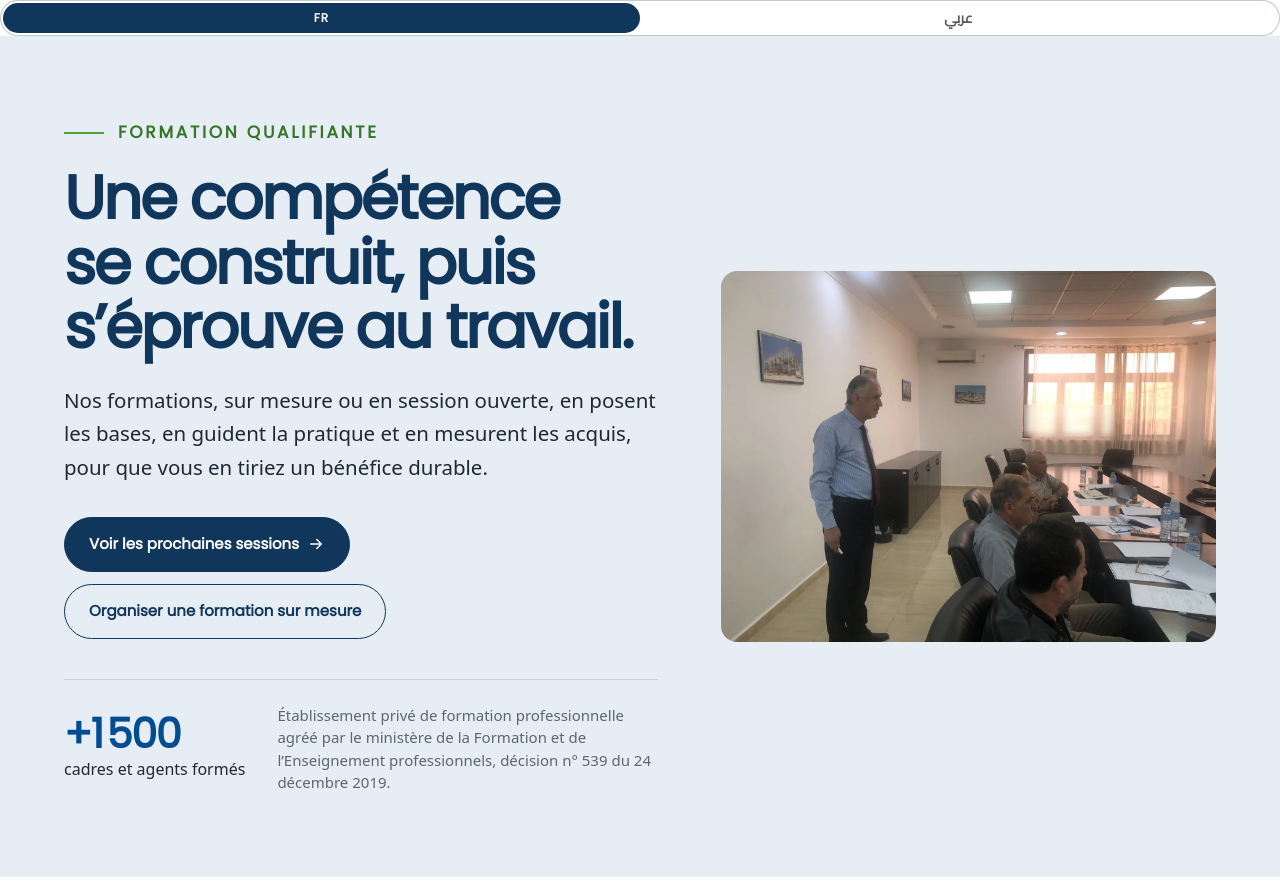
Test case: Page « Formation qualifiante » › passe en arabe
Click the button "عربي": [958, 18] box [640, 3, 1277, 33]
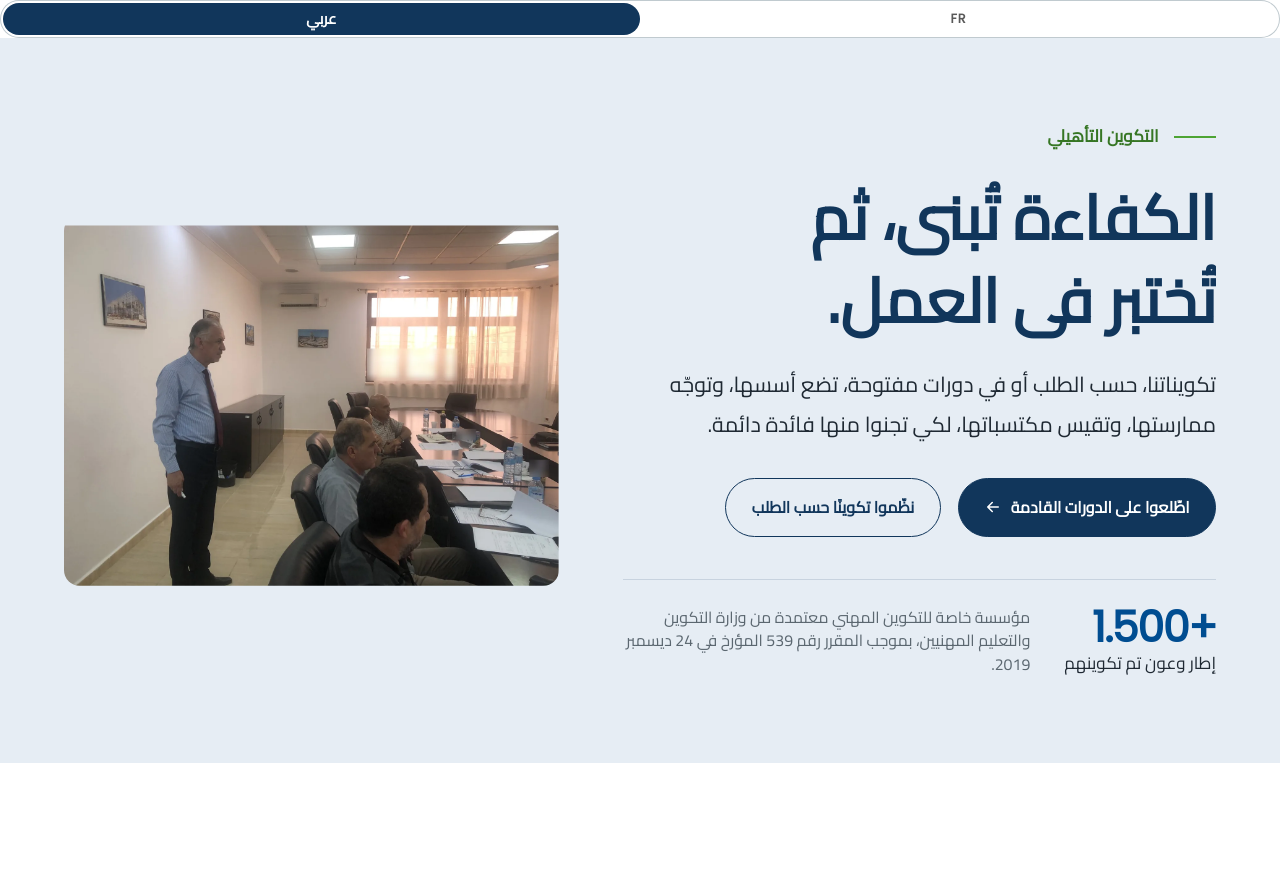
Check: the heading reads "الكفاءة تُبنى، ثم تُختبر في العمل.", box [810, 159, 1216, 360]
